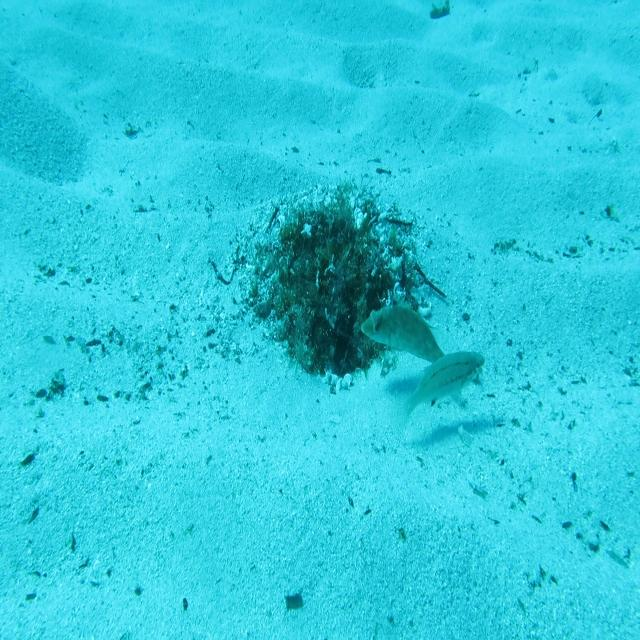MAF: (360, 290, 446, 366)
core_nest: (302, 222, 353, 281)
female: (390, 348, 486, 443)
nest: (225, 155, 448, 409)
vegetation: (427, 2, 451, 23), (284, 590, 304, 611)
